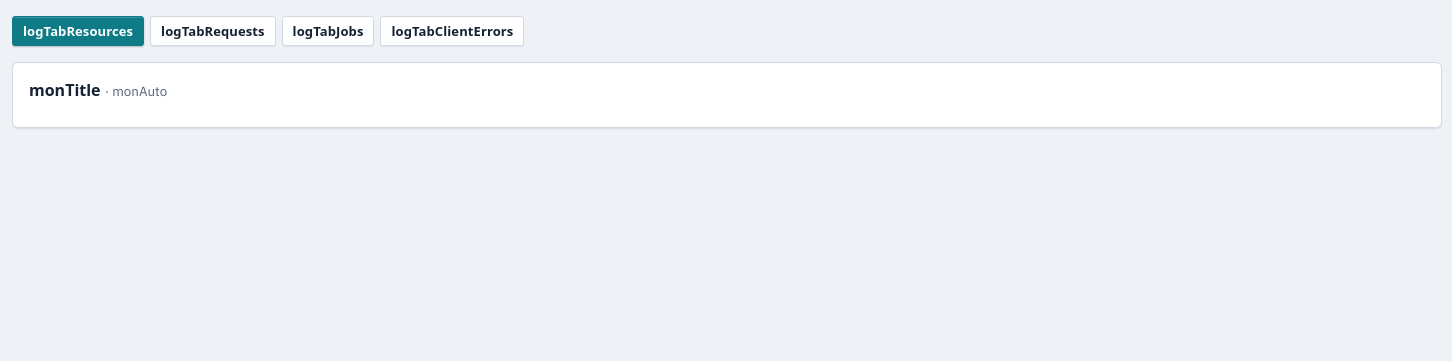
Scenario: MonitorTabs — Zadania tła › kafelek ok:false oznaczony błędem, klik w historię pokazuje detail
Click the button "logTabJobs": coordinates (328, 31) [282,16,374,46]
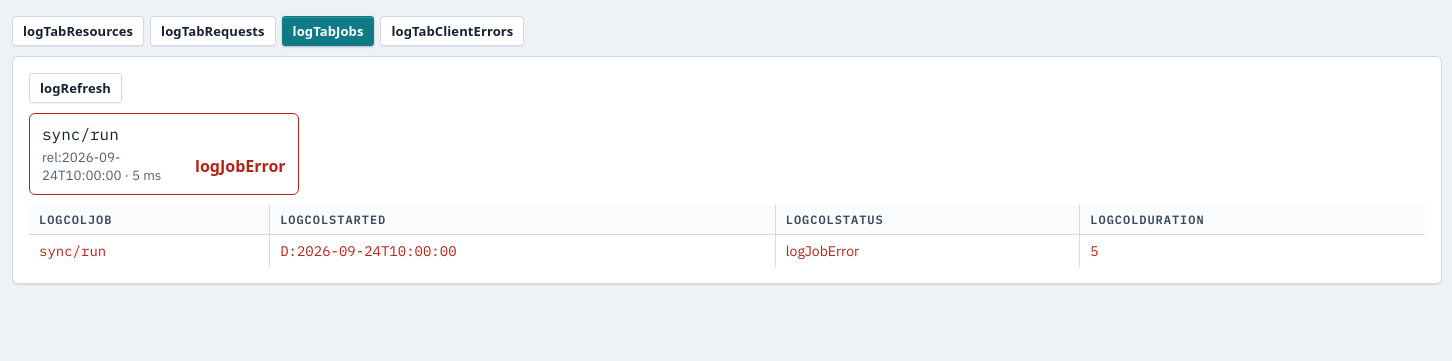
Click the text "sync/run": coordinates (727, 251) [29,234,1425,267]
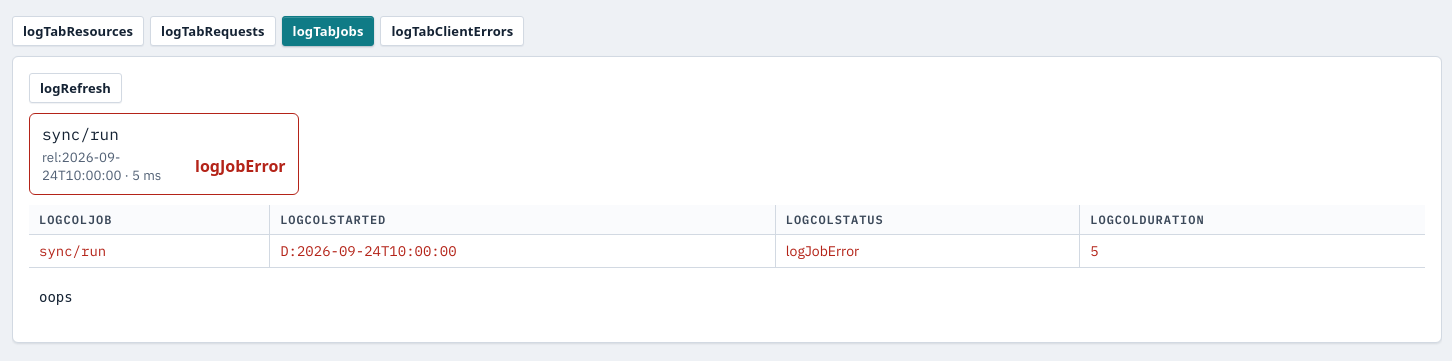
Result: the text "oops" is shown at [39,289,73,305]
